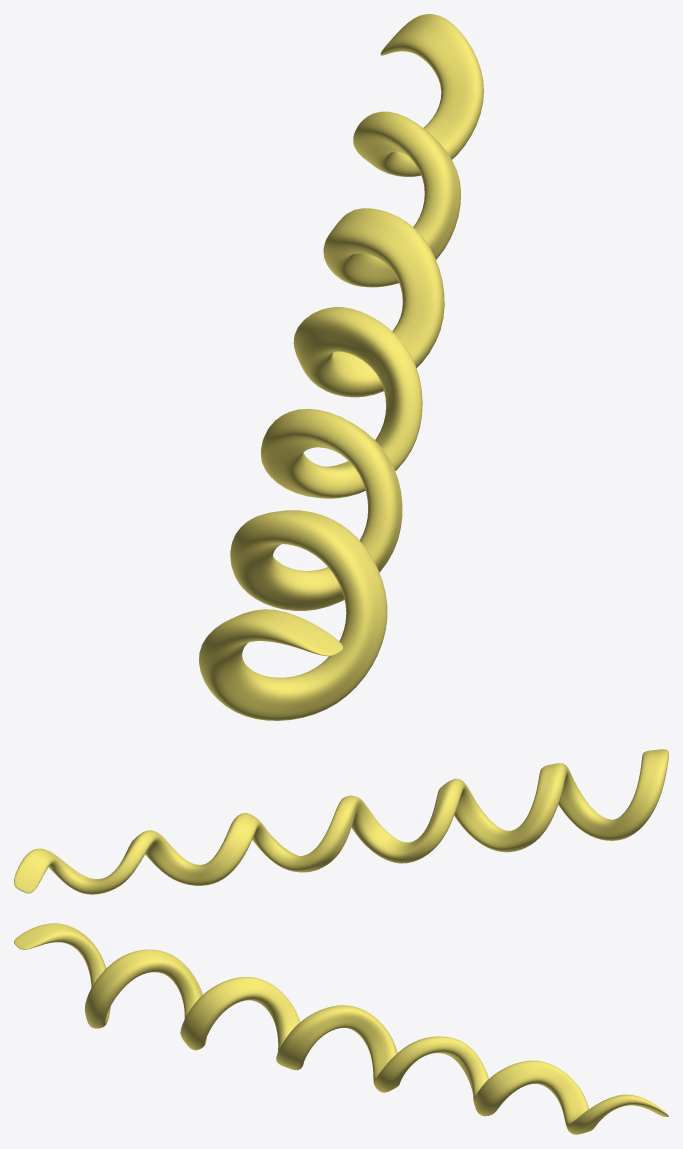
The model's file is Fusili.008.gltf.
3 renders of one model, top to bottom at view 1: azimuth 30°, elevation 25°; view 2: azimuth 150°, elevation 25°; view 3: azimuth 270°, elevation 25°, orthographic. The views are drawn at different scales.
Parts seen in each view (by area): view 1: Fusili.008; view 2: Fusili.008; view 3: Fusili.008.
Boxes of the visible parts, left/top/right/bottom form: Fusili.008: left=199, top=14, right=483, bottom=720; Fusili.008: left=14, top=749, right=668, bottom=894; Fusili.008: left=14, top=923, right=668, bottom=1134.
Bounding box in the file's own units: 3.69 × 0.8301 × 5.18.
